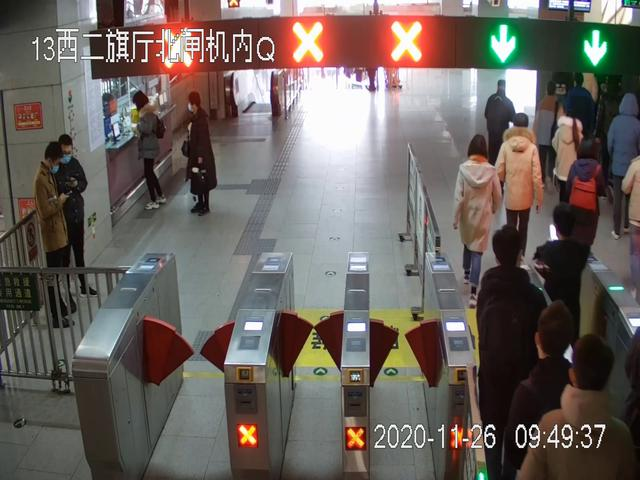person: (477, 226, 550, 480), (518, 337, 635, 480), (506, 301, 592, 480), (452, 135, 502, 308), (34, 143, 78, 329), (50, 135, 98, 297), (495, 112, 542, 261), (564, 137, 604, 272), (129, 90, 170, 210), (608, 93, 640, 237), (182, 91, 218, 217), (552, 107, 588, 223), (484, 79, 516, 172)
